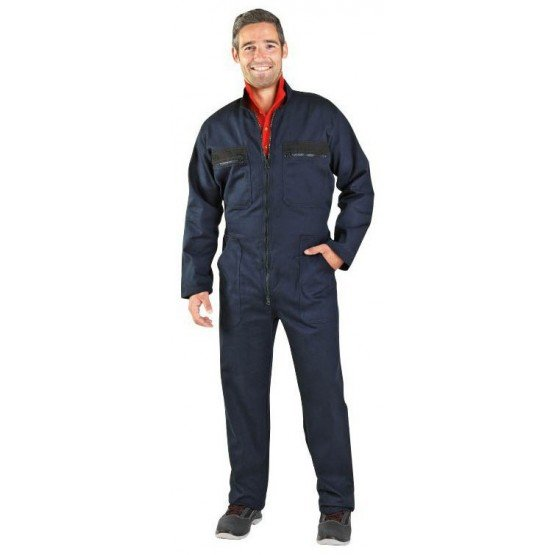sansCasque: (125, 14, 397, 236)
